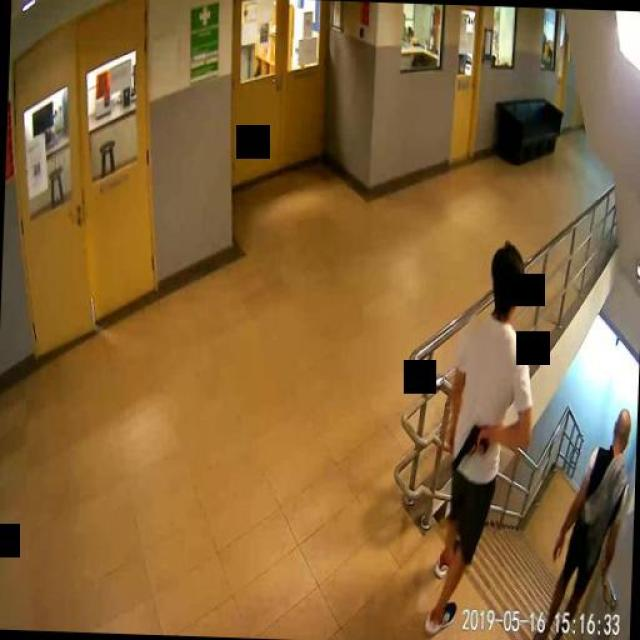gun: (452, 422, 488, 468)
